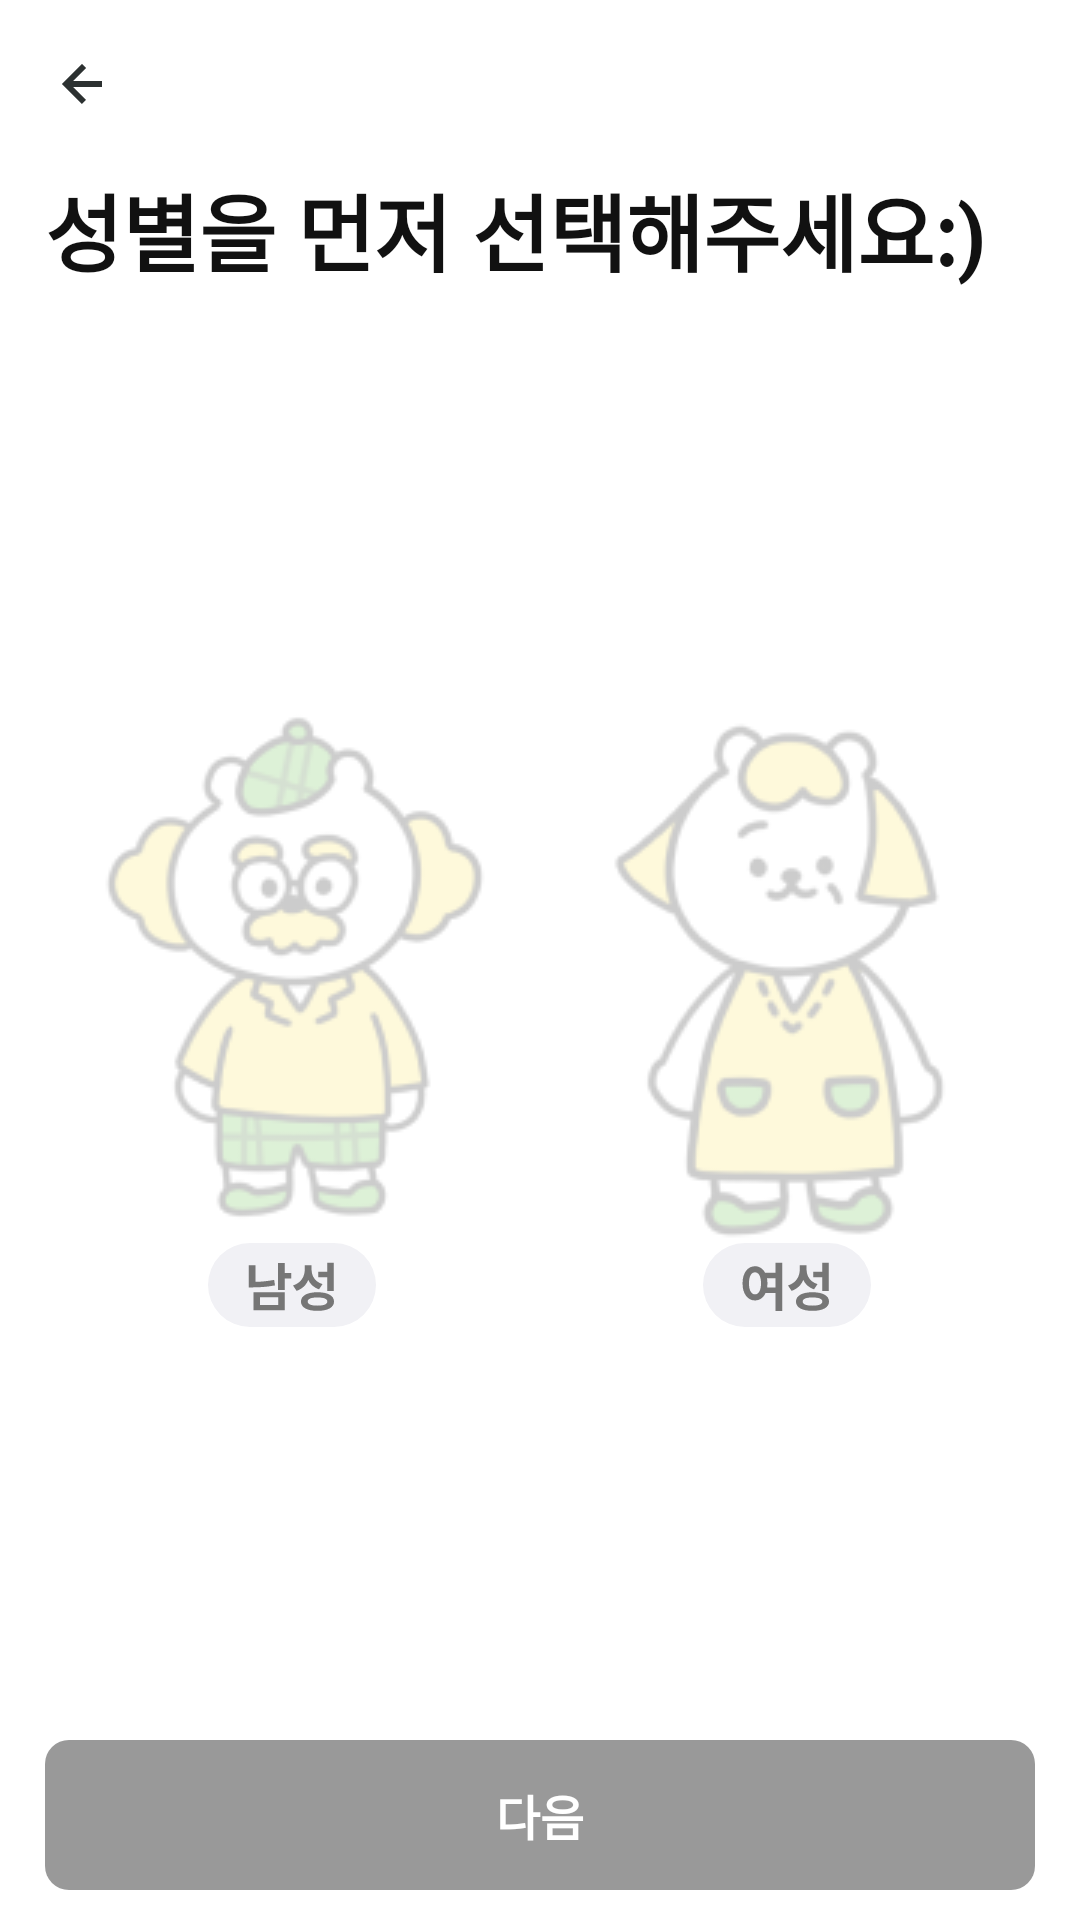

Icon click points for this 1080×1920 phone screenshot, format (x,y):
back: (82,84)
